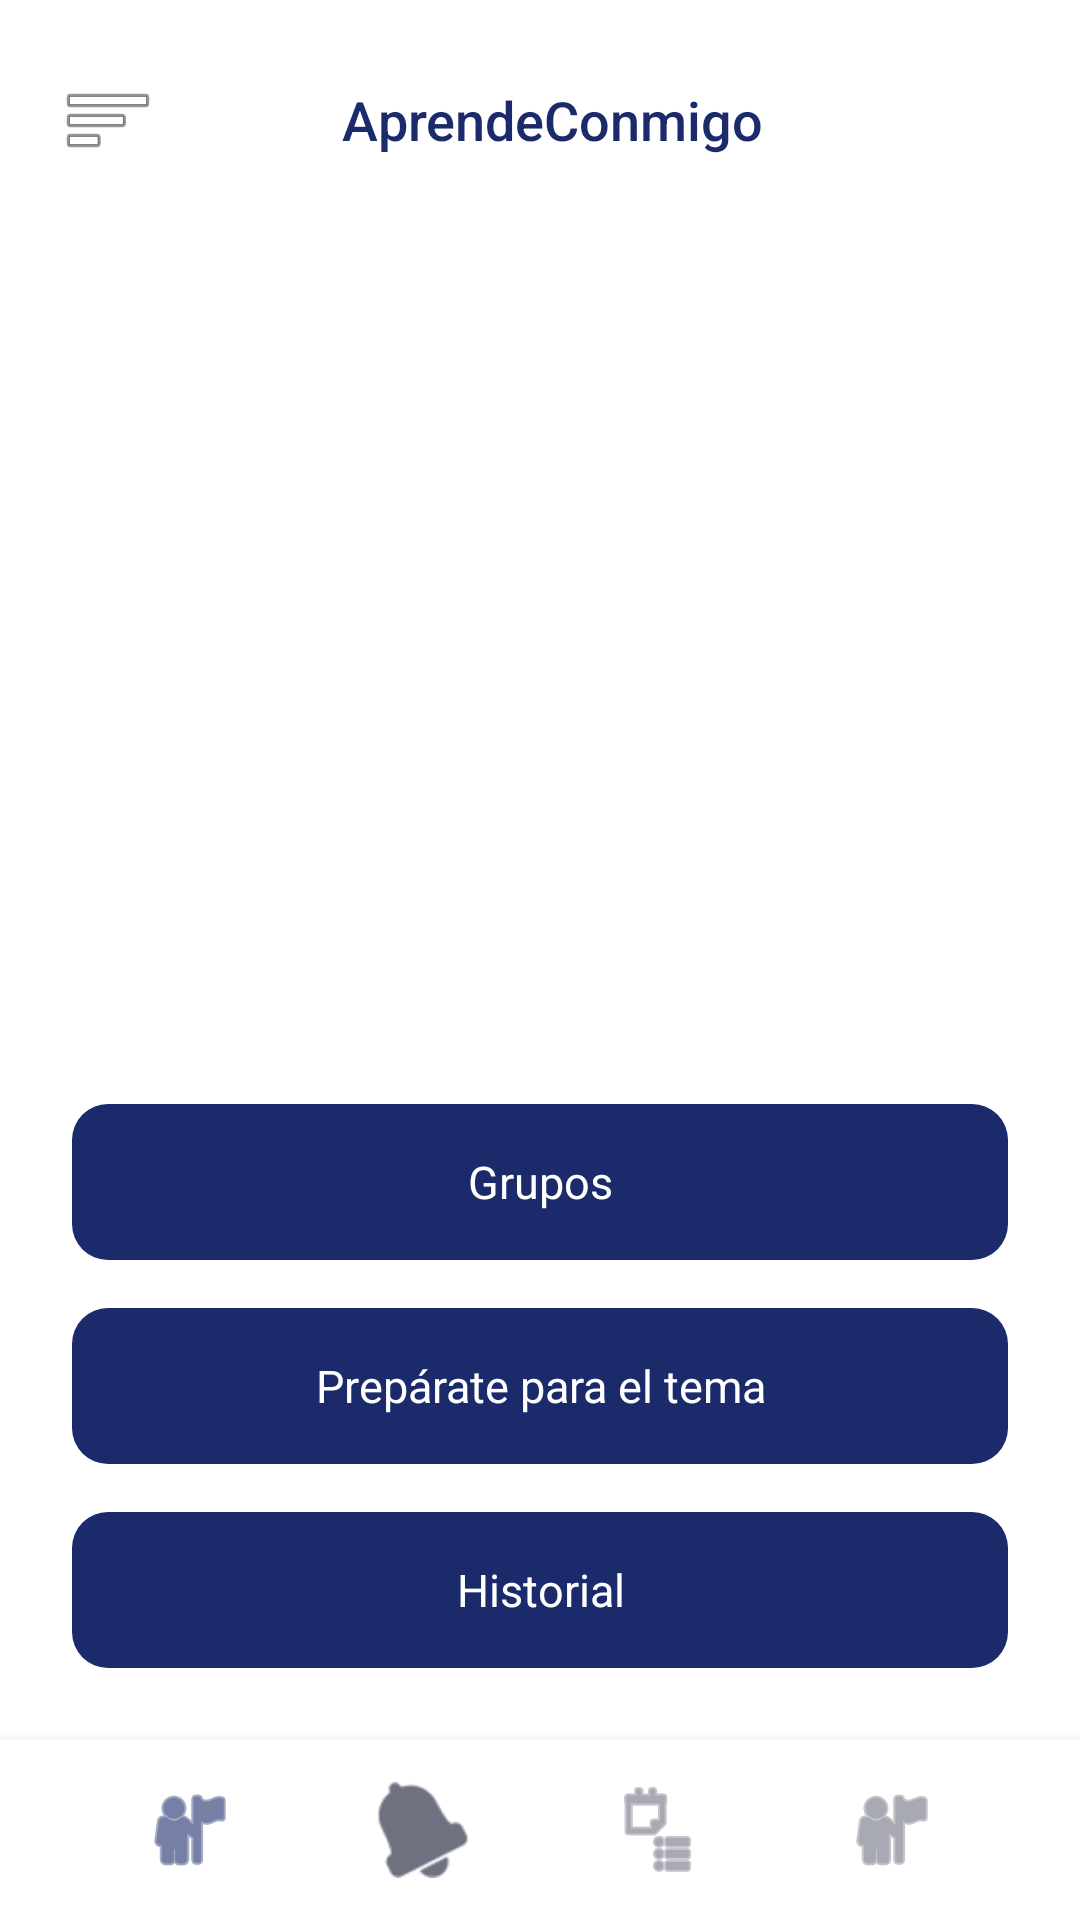

Icon click points for this 1080*1920 phone screenshot, format (x,y):
Notificaciones: (423,1830)
